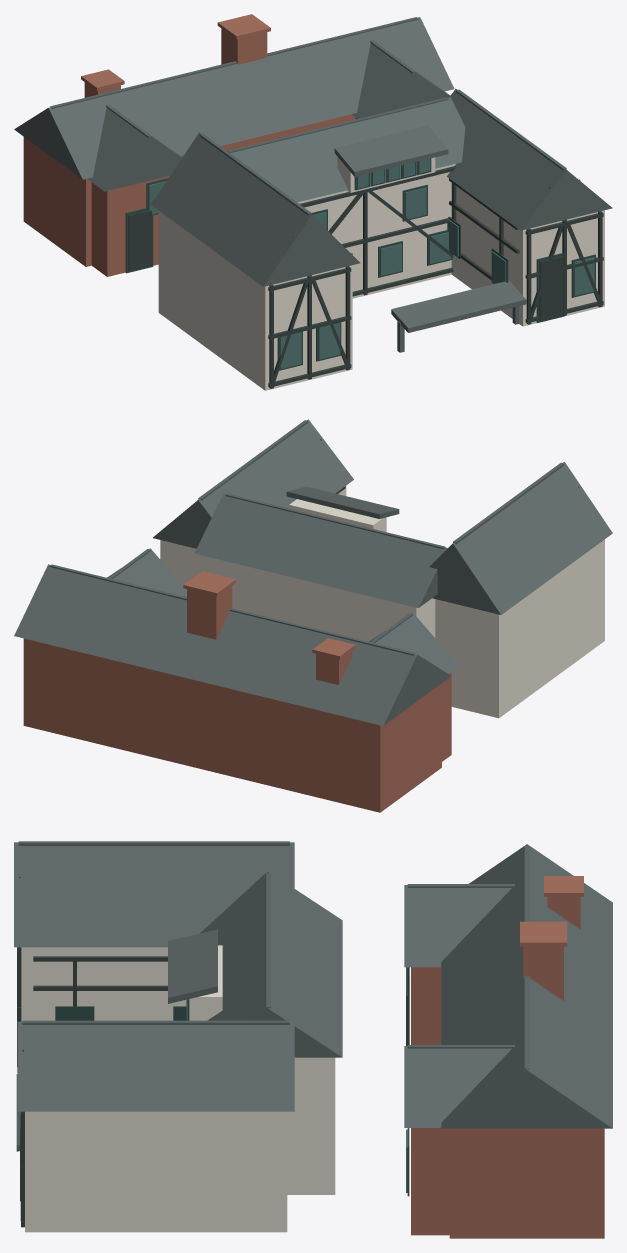
File: one-step-garden-identity.glb
3 renders of one model, top to bottom at view 1: azimuth 30°, elevation 25°; view 2: azimuth 150°, elevation 25°; view 3: azimuth 270°, elevation 25°, orthographic. The views are drawn at different scales.
Visible parts, largest first — view 1: one-step-garden-identity; view 2: one-step-garden-identity; view 3: one-step-garden-identity.
Part boxes in pixels (bbox=[...]): one-step-garden-identity: bbox=[14, 14, 612, 390]; one-step-garden-identity: bbox=[14, 419, 612, 812]; one-step-garden-identity: bbox=[14, 841, 612, 1238].
Size of the model in its own units: 14.5 by 6.25 by 16.22.
